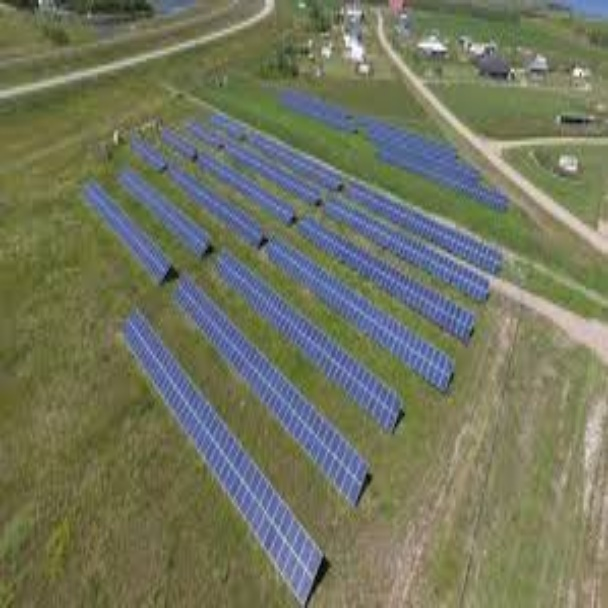solarpanels: (61, 61, 558, 583)
